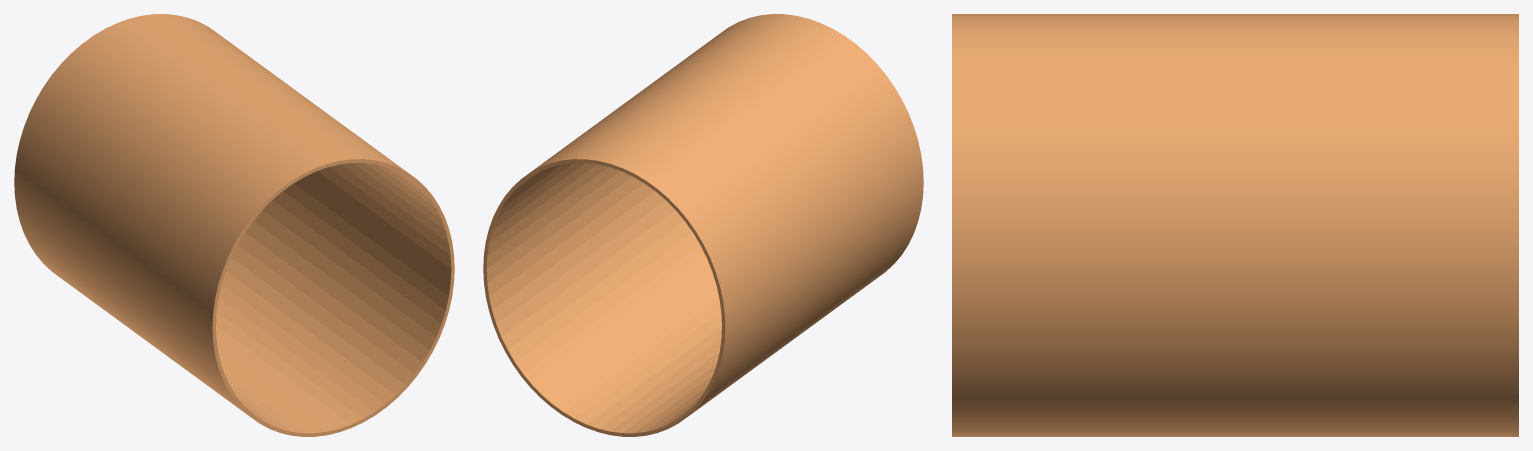
3 renders of one model, left to right at view 1: azimuth 30°, elevation 25°; view 2: azimuth 150°, elevation 25°; view 3: azimuth 270°, elevation 25°, orthographic. The views are drawn at different scales.
Parts seen in each view (by area): view 1: skin; view 2: skin; view 3: skin.
Boxes of the visible parts, x1,y1,x2,y2 form: skin: (14, 14, 454, 436); skin: (483, 14, 923, 436); skin: (952, 14, 1518, 436).
Size of the model in its own units: 0.0705 by 0.0755 by 0.1.
